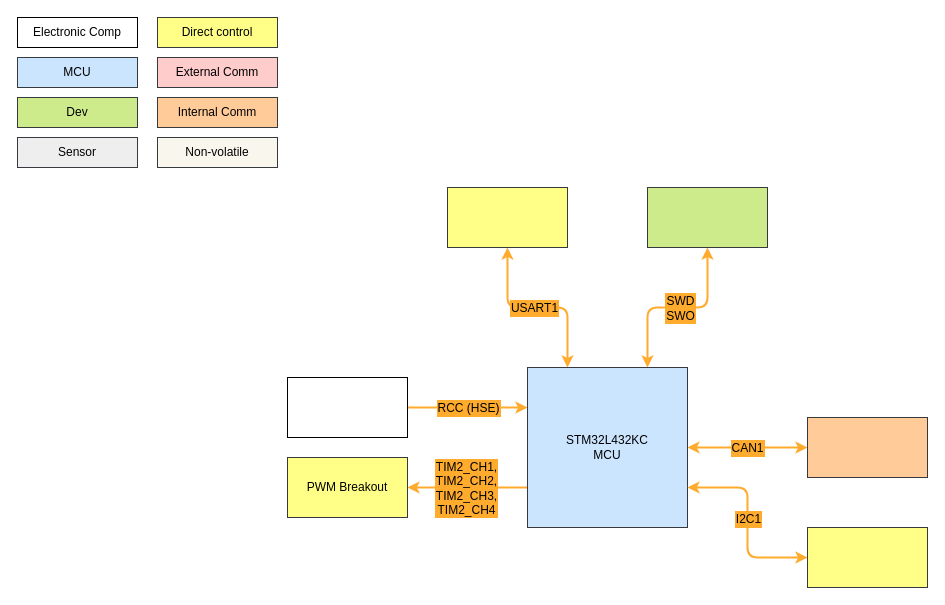
Some shapes in this 945 by 605 pixel diagram are drawn without their labels. The shapes that lost their labels are listed below. From the top down, each one's centre as x and y in pixels, then its label:
point (507, 217): UART Breakout
point (707, 217): TC2050 Programming Contact Pads
point (347, 407): RCC HSE & LSE Crystals
point (867, 447): TJA1051T/3 CAN Bus Transceiver
point (867, 557): I2C Breakout
